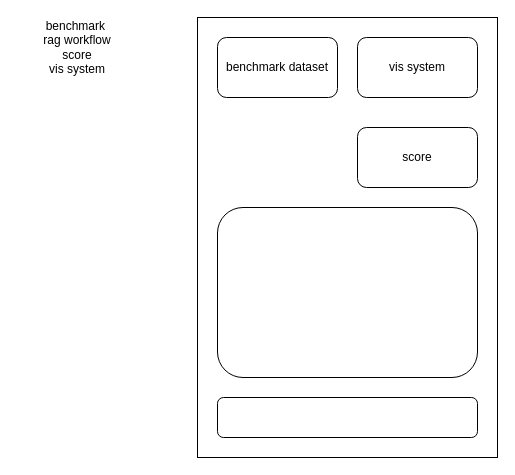
Image size: 515x475. Some labels were removed from this diagram. The centre of each missing label's shape, as x and y in pixels:
"Foundation Model" goes at point 347,417.
"rag workflow" goes at point 347,292.
